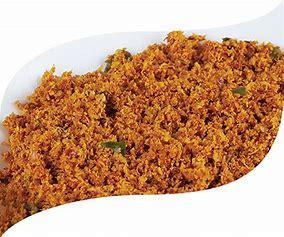Pol Sambol: (17, 36, 272, 211)
